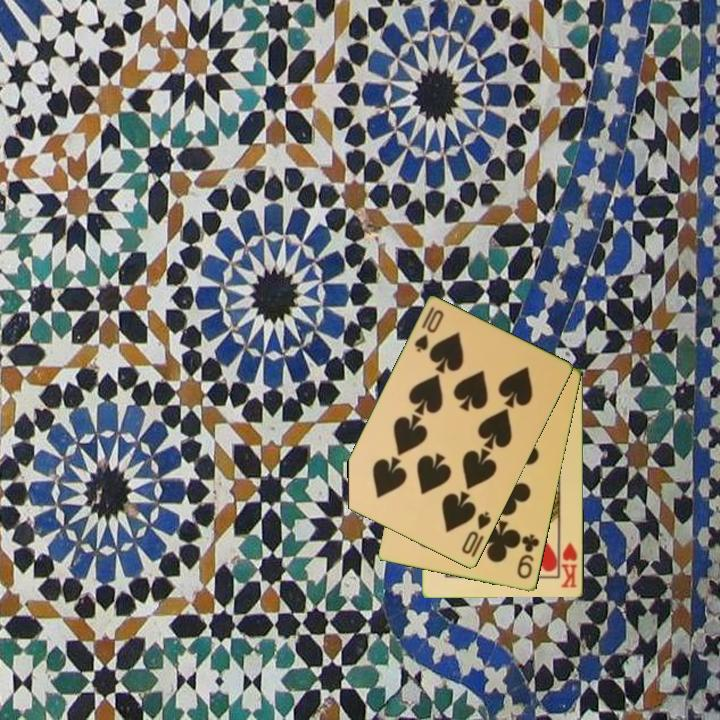10s: (411, 304, 447, 356), (458, 508, 494, 558)
9c: (514, 531, 543, 582)
Kh: (557, 535, 580, 591)
